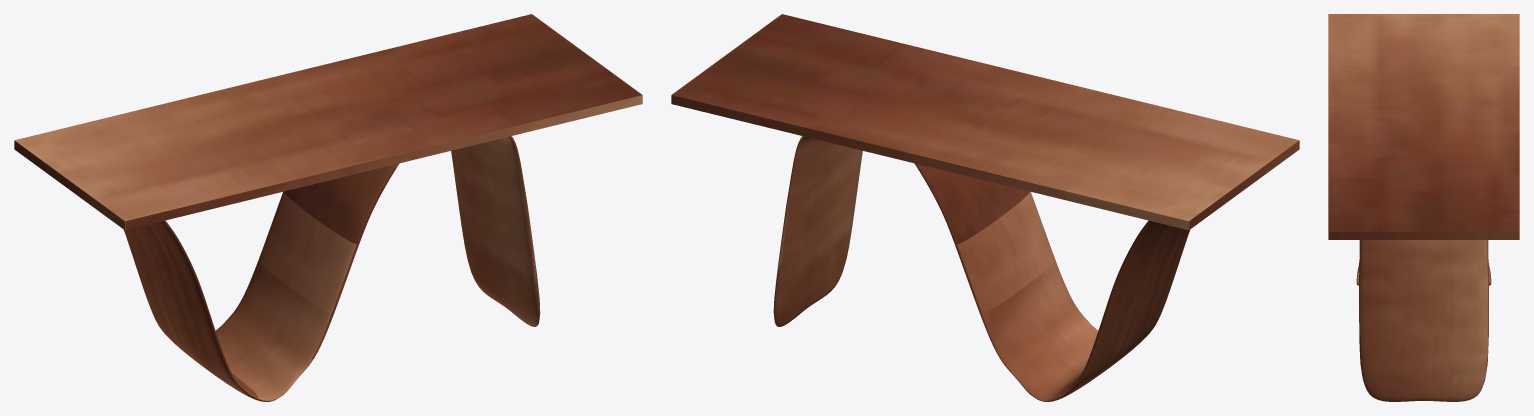
3 renders of one model, left to right at view 1: azimuth 30°, elevation 25°; view 2: azimuth 150°, elevation 25°; view 3: azimuth 270°, elevation 25°, orthographic. The views are drawn at different scales.
Parts seen in each view (by area): view 1: horizontal table_1, Curvy Part_0; view 2: horizontal table_1, Curvy Part_0; view 3: horizontal table_1, Curvy Part_0.
Part boxes in pixels (x1=…): horizontal table_1: x1=14, y1=14, x2=642, y2=230; Curvy Part_0: x1=124, y1=136, x2=540, y2=401; horizontal table_1: x1=671, y1=14, x2=1299, y2=230; Curvy Part_0: x1=773, y1=136, x2=1189, y2=401; horizontal table_1: x1=1328, y1=14, x2=1519, y2=239; Curvy Part_0: x1=1356, y1=240, x2=1491, y2=401.
Bounding box in the file's own units: 3.09 × 1.34 × 1.14.
Materials: 1 (1 with a texture image).
